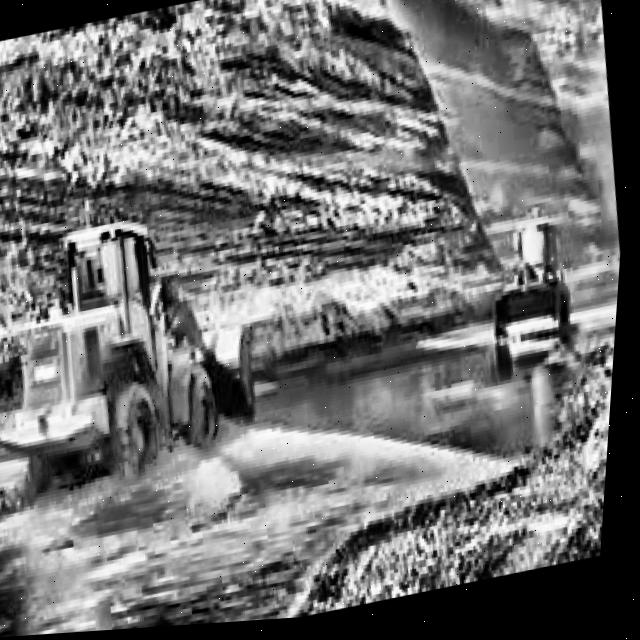buldozerpayloadergrader: (0, 179, 280, 491), (476, 200, 591, 372)
